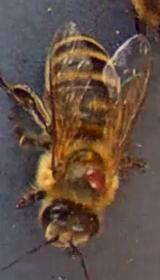varroa_mite: (77, 162, 111, 196)
